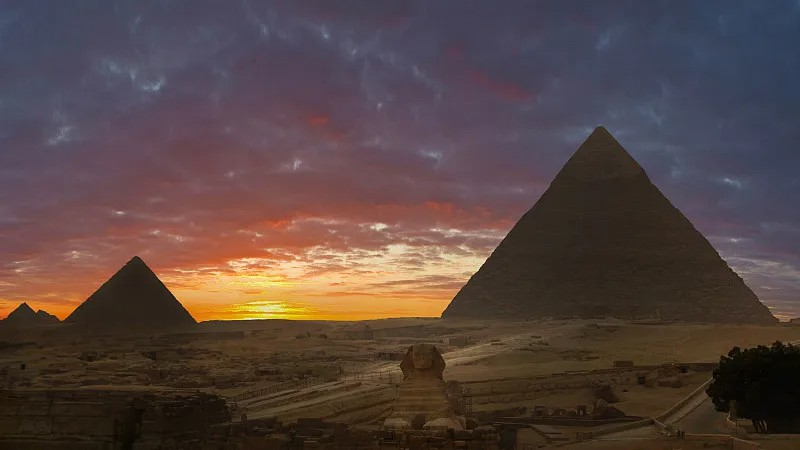Pyramid: (442, 127, 781, 327), (62, 256, 197, 324)
